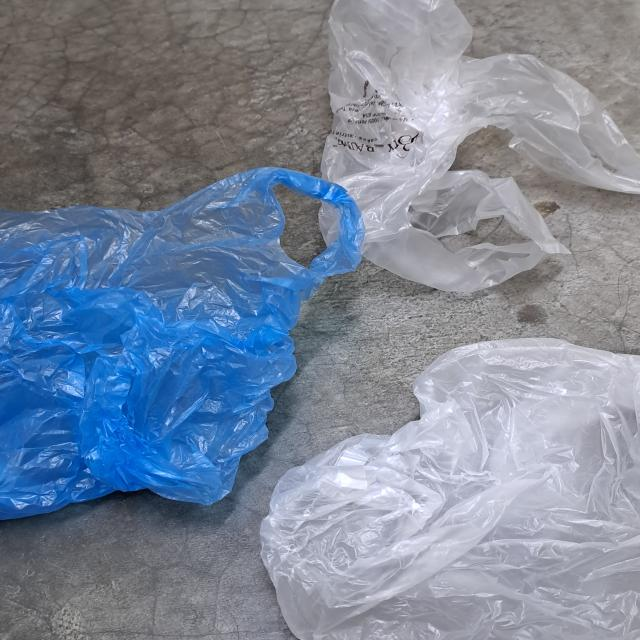plastic bag: (0, 167, 371, 520), (260, 335, 640, 640), (323, 0, 640, 295)
